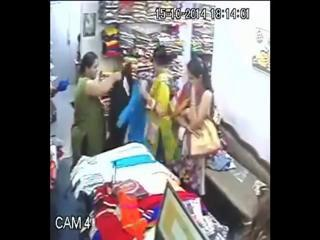Normal: (174, 56, 222, 198), (71, 51, 121, 164), (144, 46, 183, 166), (106, 55, 148, 148), (188, 118, 222, 157)
